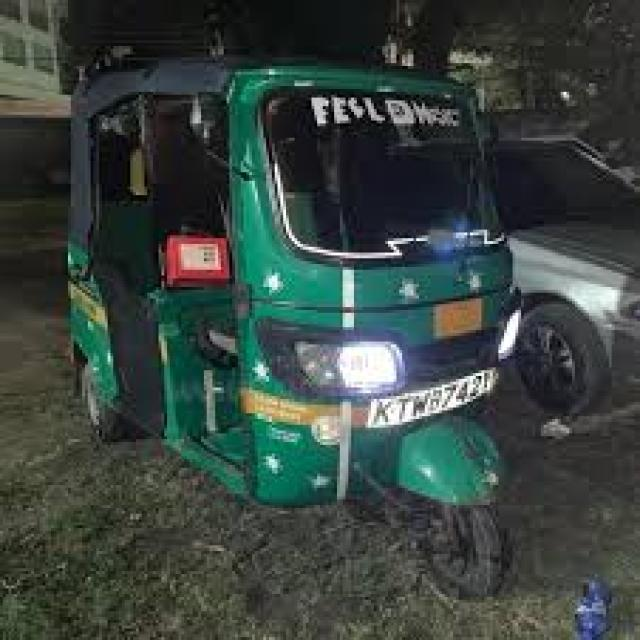tuktuk: (47, 13, 543, 640)
